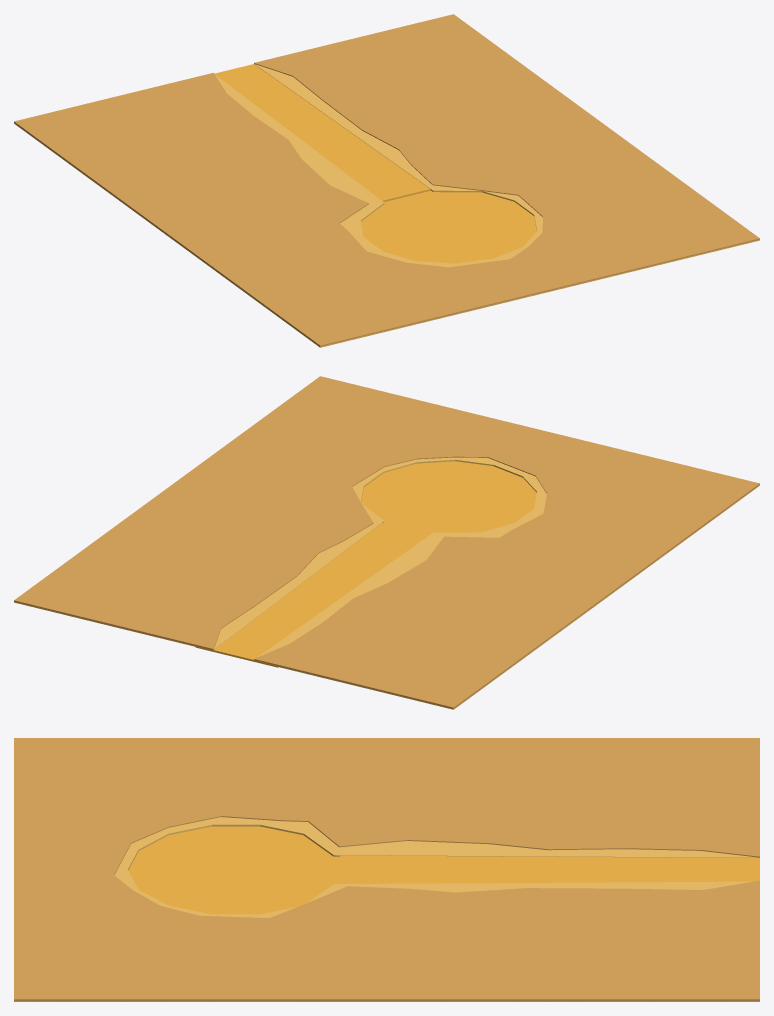
The model's file is floor.fbx.
3 views of the same model, one above another, from view 1: azimuth 30°, elevation 25°; view 2: azimuth 150°, elevation 25°; view 3: azimuth 270°, elevation 25° (orthographic). The views are drawn at different scales.
Parts seen in each view (by area): view 1: floor; view 2: floor; view 3: floor.
Boxes of the visible parts, <box> form: floor: <box>14,14,759,347</box>; floor: <box>14,376,759,709</box>; floor: <box>14,738,759,1001</box>.
Bounding box in the file's own units: 3289 × 21.11 × 3968.
